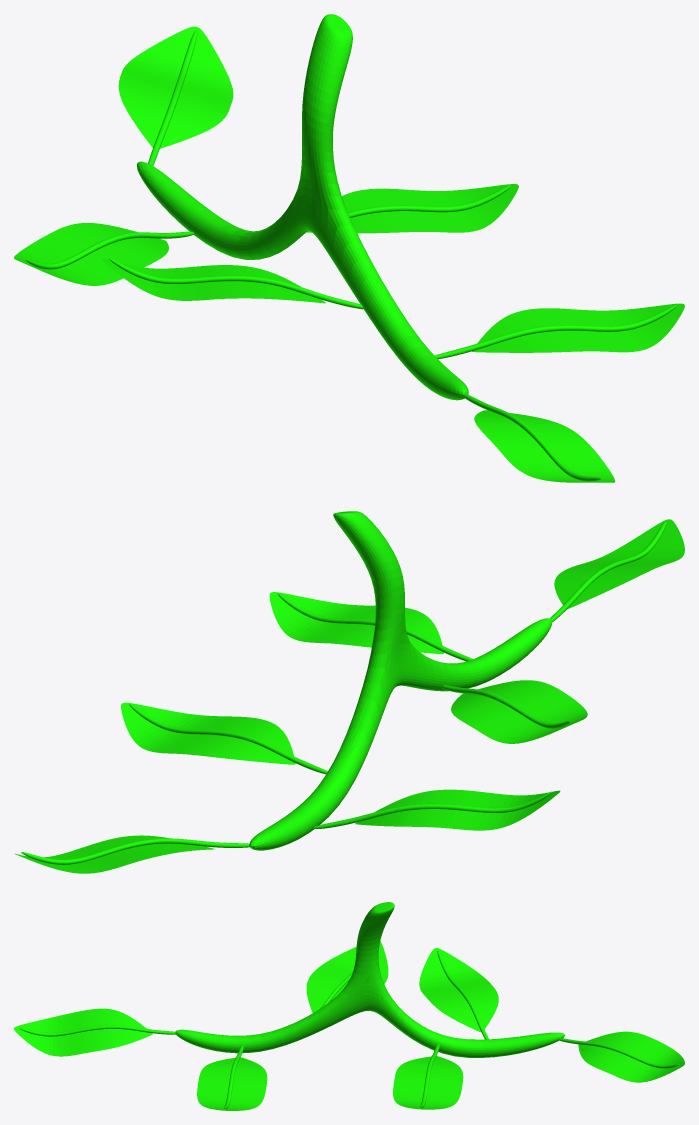
File: pohon step 1.fbx
3 views of the same model, one above another, from view 1: azimuth 30°, elevation 25°; view 2: azimuth 150°, elevation 25°; view 3: azimuth 270°, elevation 25° (orthographic). The views are drawn at different scales.
Parts seen in each view (by area): view 1: pohon 1; view 2: pohon 1; view 3: pohon 1.
Boxes of the visible parts, bbox=[...] form: pohon 1: bbox=[14, 14, 684, 482]; pohon 1: bbox=[14, 511, 684, 873]; pohon 1: bbox=[14, 902, 684, 1110].
Bounding box in the file's own units: 173 × 93.32 × 344.
